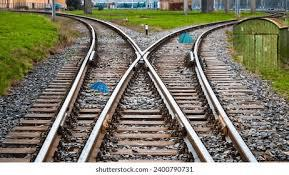Color_steel: (90, 80, 110, 97), (180, 31, 195, 47)
Green_house: (234, 15, 289, 69)
